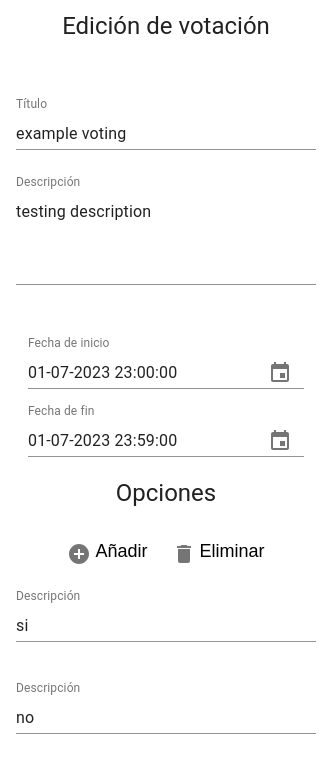
Test: Behaviour testing › Testing date validator closing before opening
Replace the text in the field labelled "Fecha de inicio" with "21-04-2025 22:00:00" at [138, 373], box [28,357,248,389]
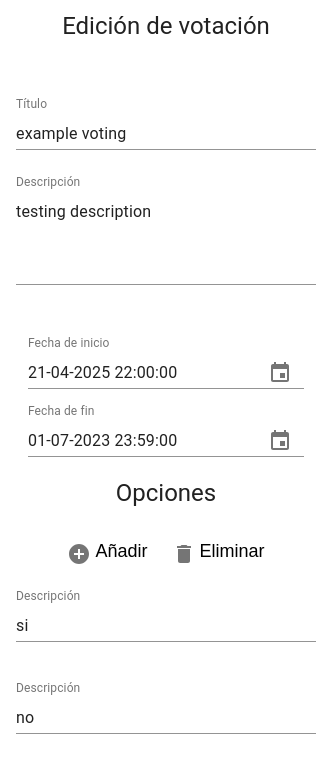
Replace the text in the field labelled "Fecha de fin" with "21-04-2025 19:00:00" at [138, 441], box [28,425,248,457]
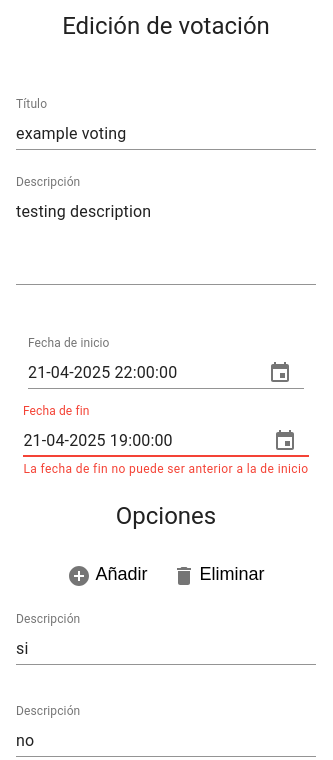
Result: the text "La fecha de fin no puede ser anterior a la de inicio" is shown at [24,460,309,480]
